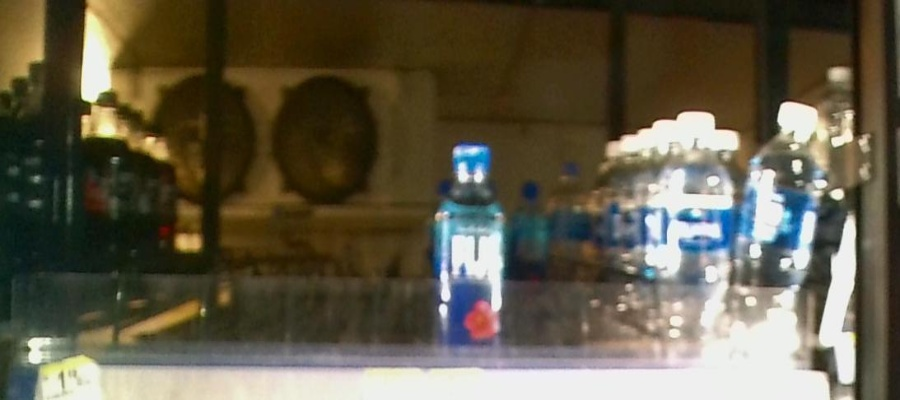bottle: (739, 104, 824, 352), (431, 129, 512, 378), (661, 104, 734, 372)
